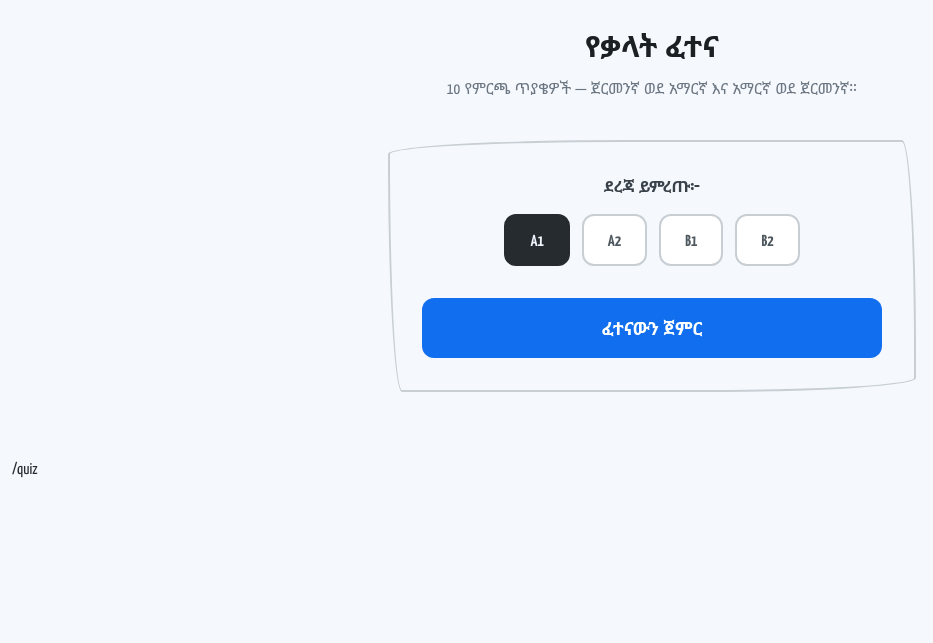
Scenario: Quiz › saves the result for a logged-in user
Click the button "A2". click: (615, 240)
box: [582,214,647,266]
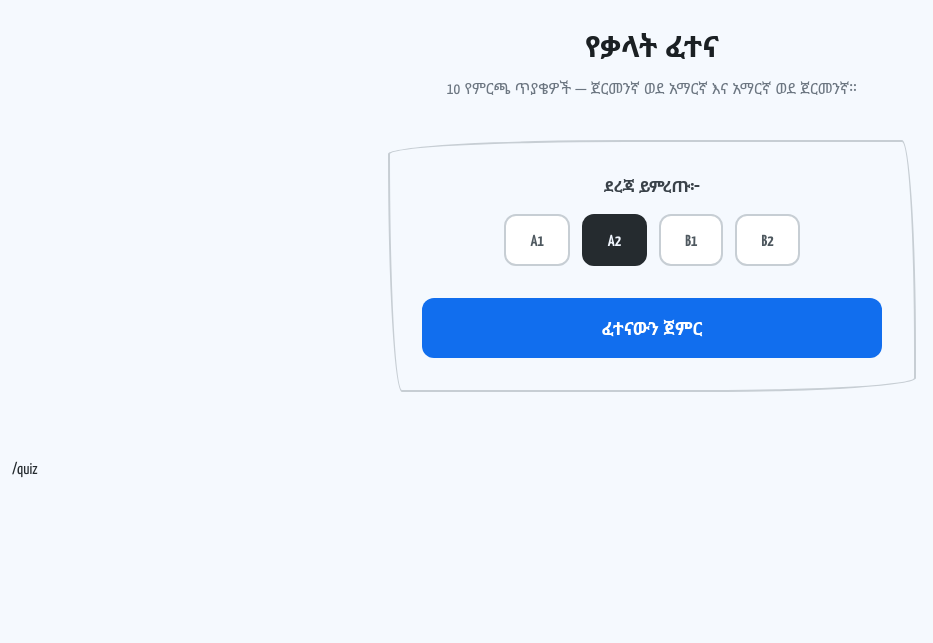
Click the button "ፈተናውን ጀምር". click: (652, 328)
box: [422,298,882,358]
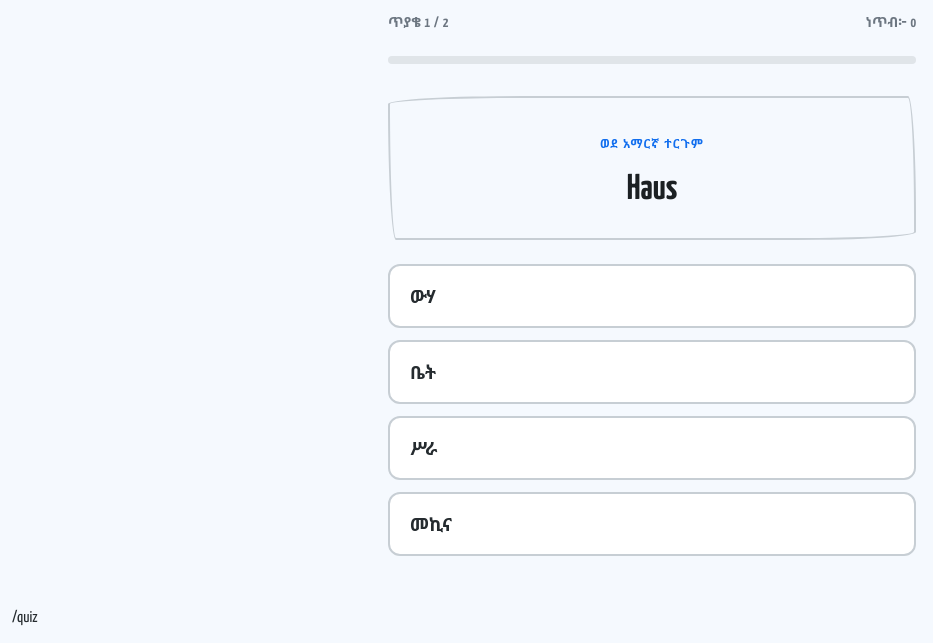
Check: the heading "Haus" is shown, box [627,161,677,210]
Click the button "ቤት". click: (423, 372)
box: [388,340,916,404]
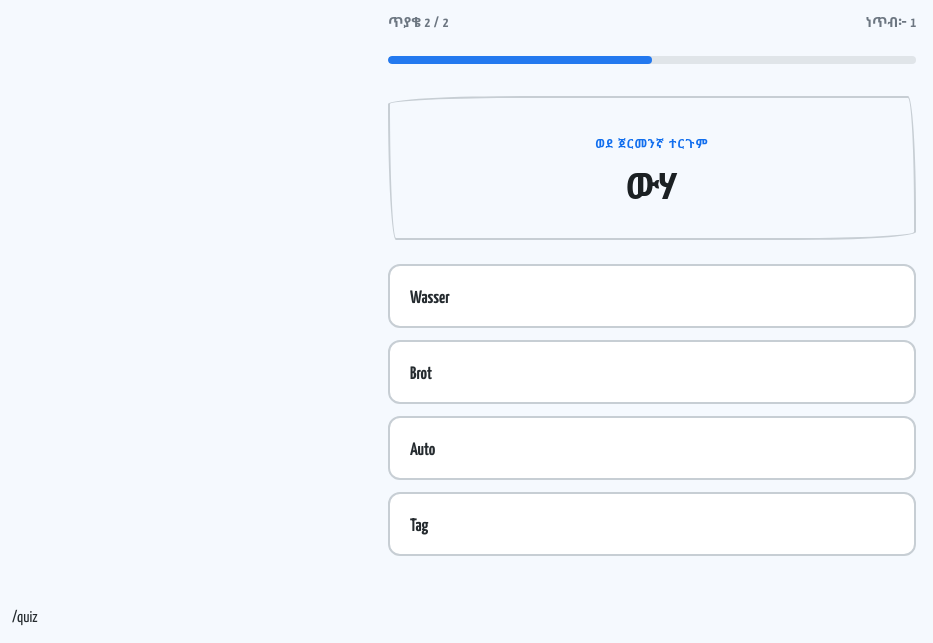
Click the button "Wasser". click: (430, 296)
box: [388,264,916,328]
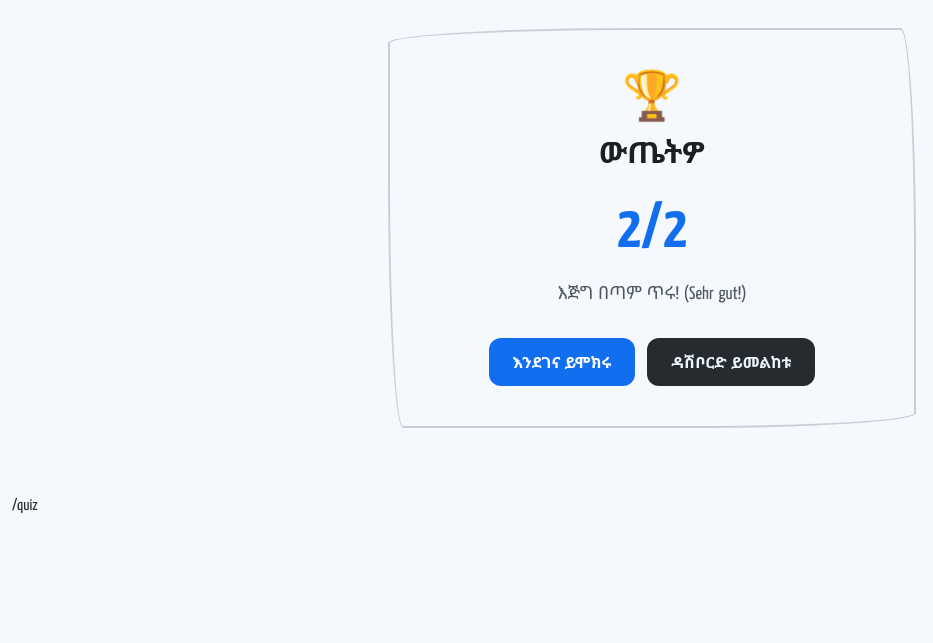
Check: the text "2/2" is shown, box [617,183,687,265]
